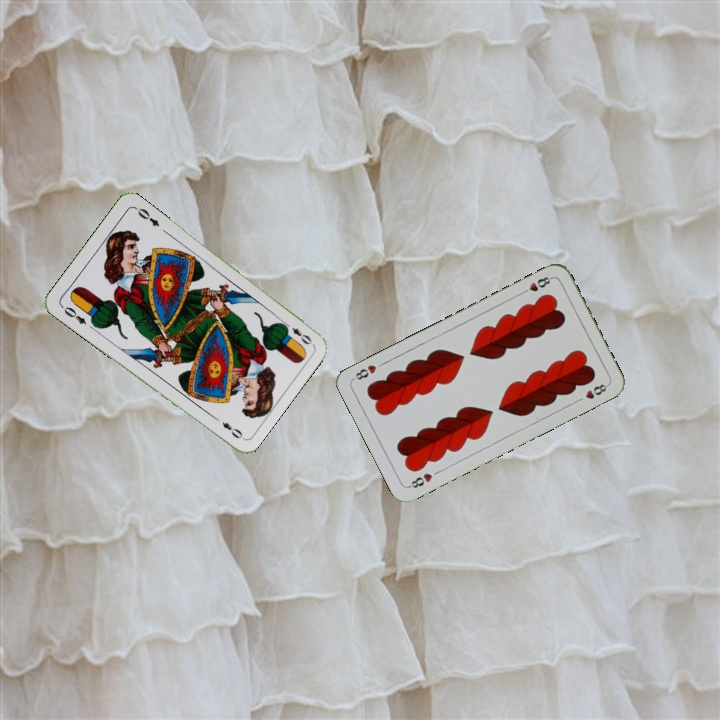EO: (279, 318, 315, 347), (57, 302, 89, 327)
H8: (517, 272, 555, 297), (405, 469, 435, 491)
